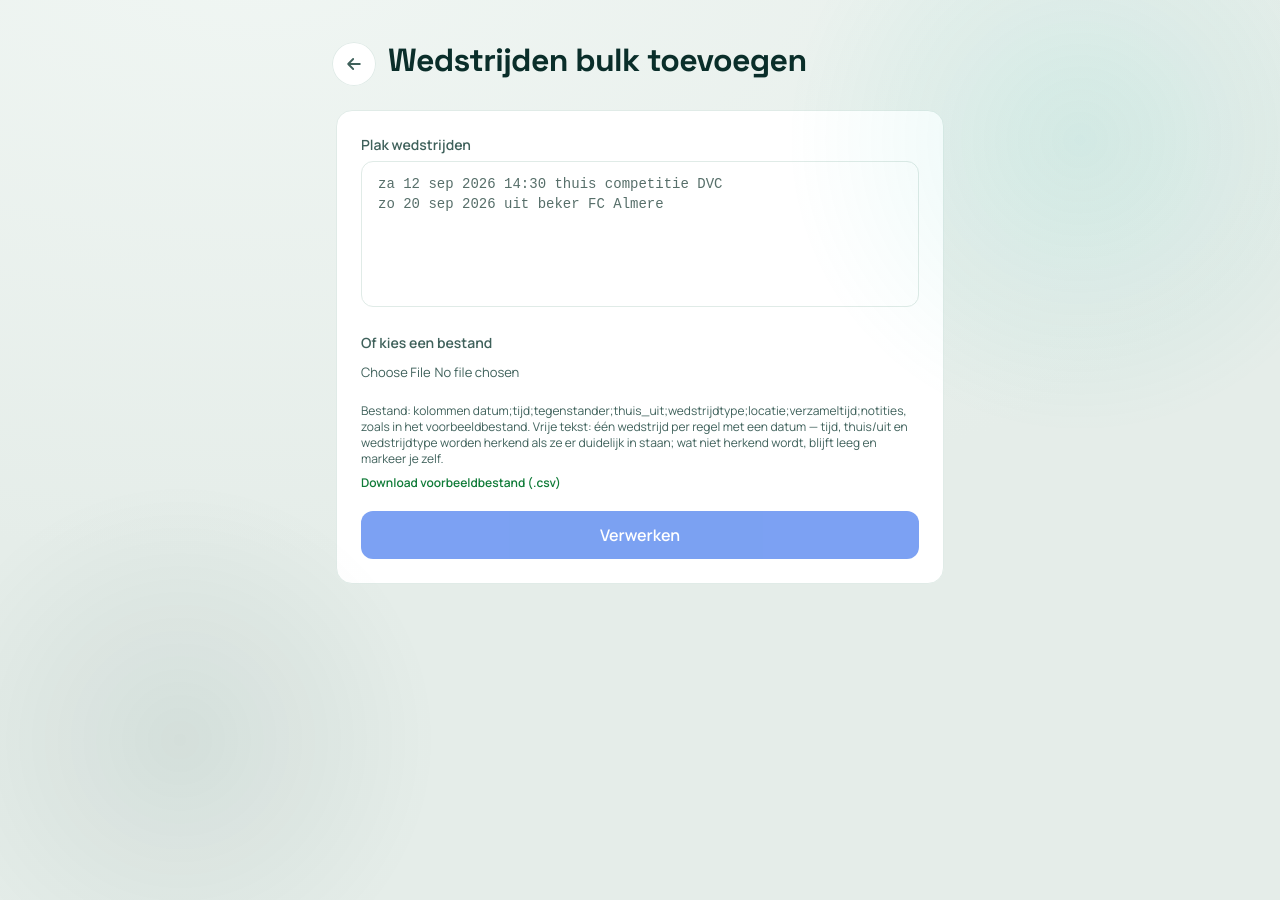
Story-F2 — Onherkenbare/lege tekst › onherkenbare tekst (geen datum) toont een melding en géén tabel
The image size is (1280, 900).
Replace the text in the text box labelled "Plak wedstrijden" with "Dit is geen wedstrijd, gewoon een zin.". click: (640, 234)
box: [361,161,919,307]
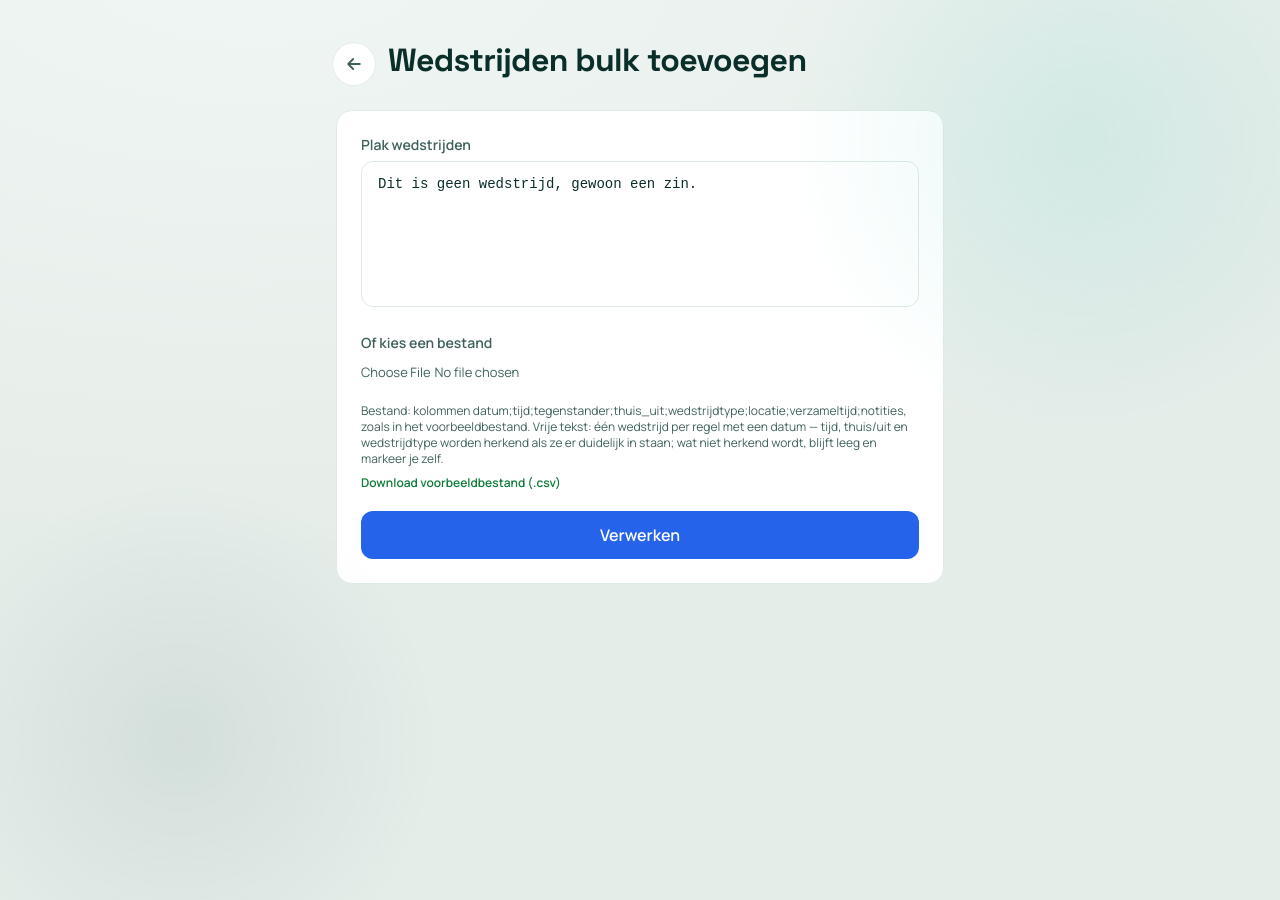
Click the button "Verwerken". click: (640, 535)
box: [361,511,919,559]
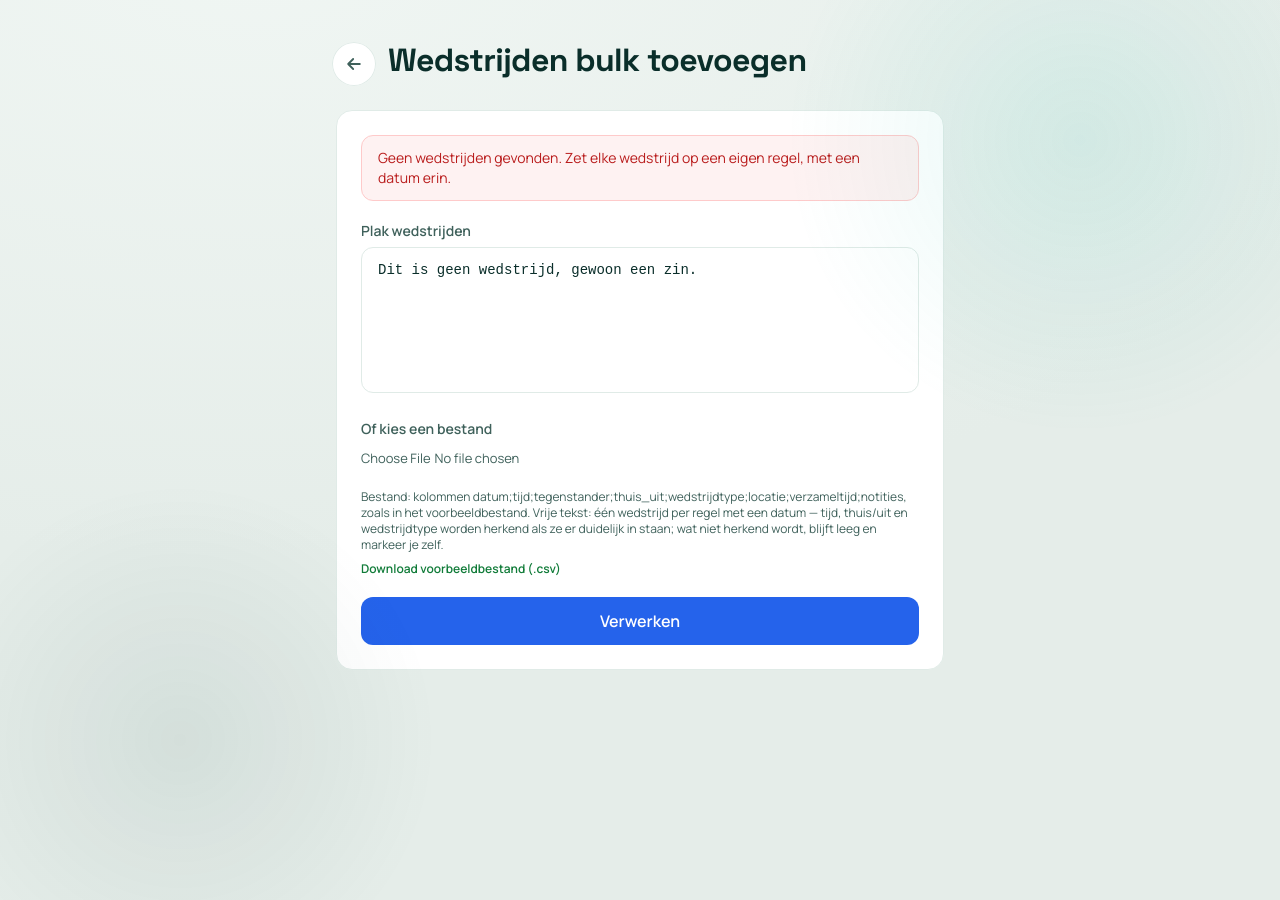
Now the text "Geen wedstrijden gevonden. Zet elke wedstrijd op een eigen regel, met een datum erin." is shown, box [378,148,860,187]
